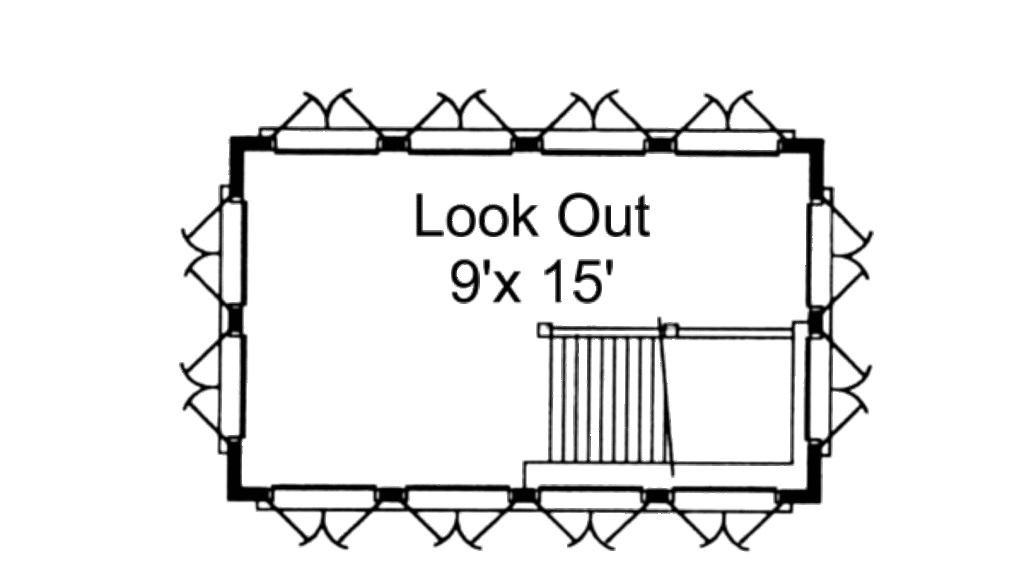stairs to the terrace: (467, 270, 818, 506)
